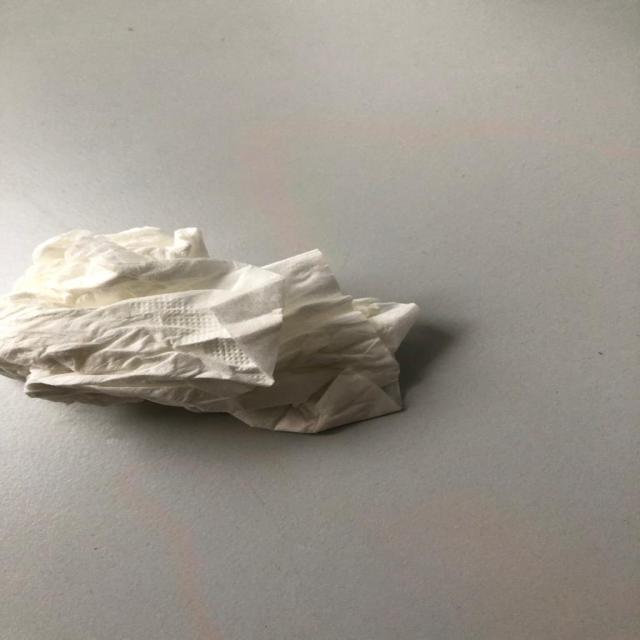kitchen paper: (0, 220, 425, 438)
